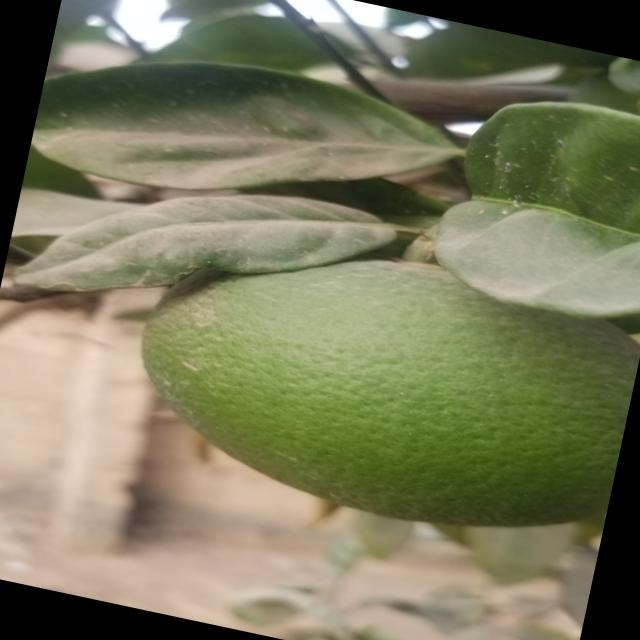agrume: (115, 210, 639, 553)
